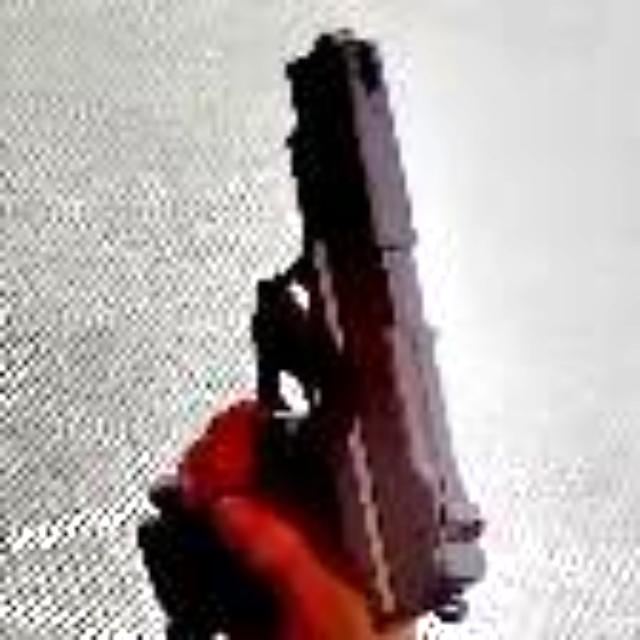pistol: (122, 0, 518, 640), (137, 34, 486, 640)
